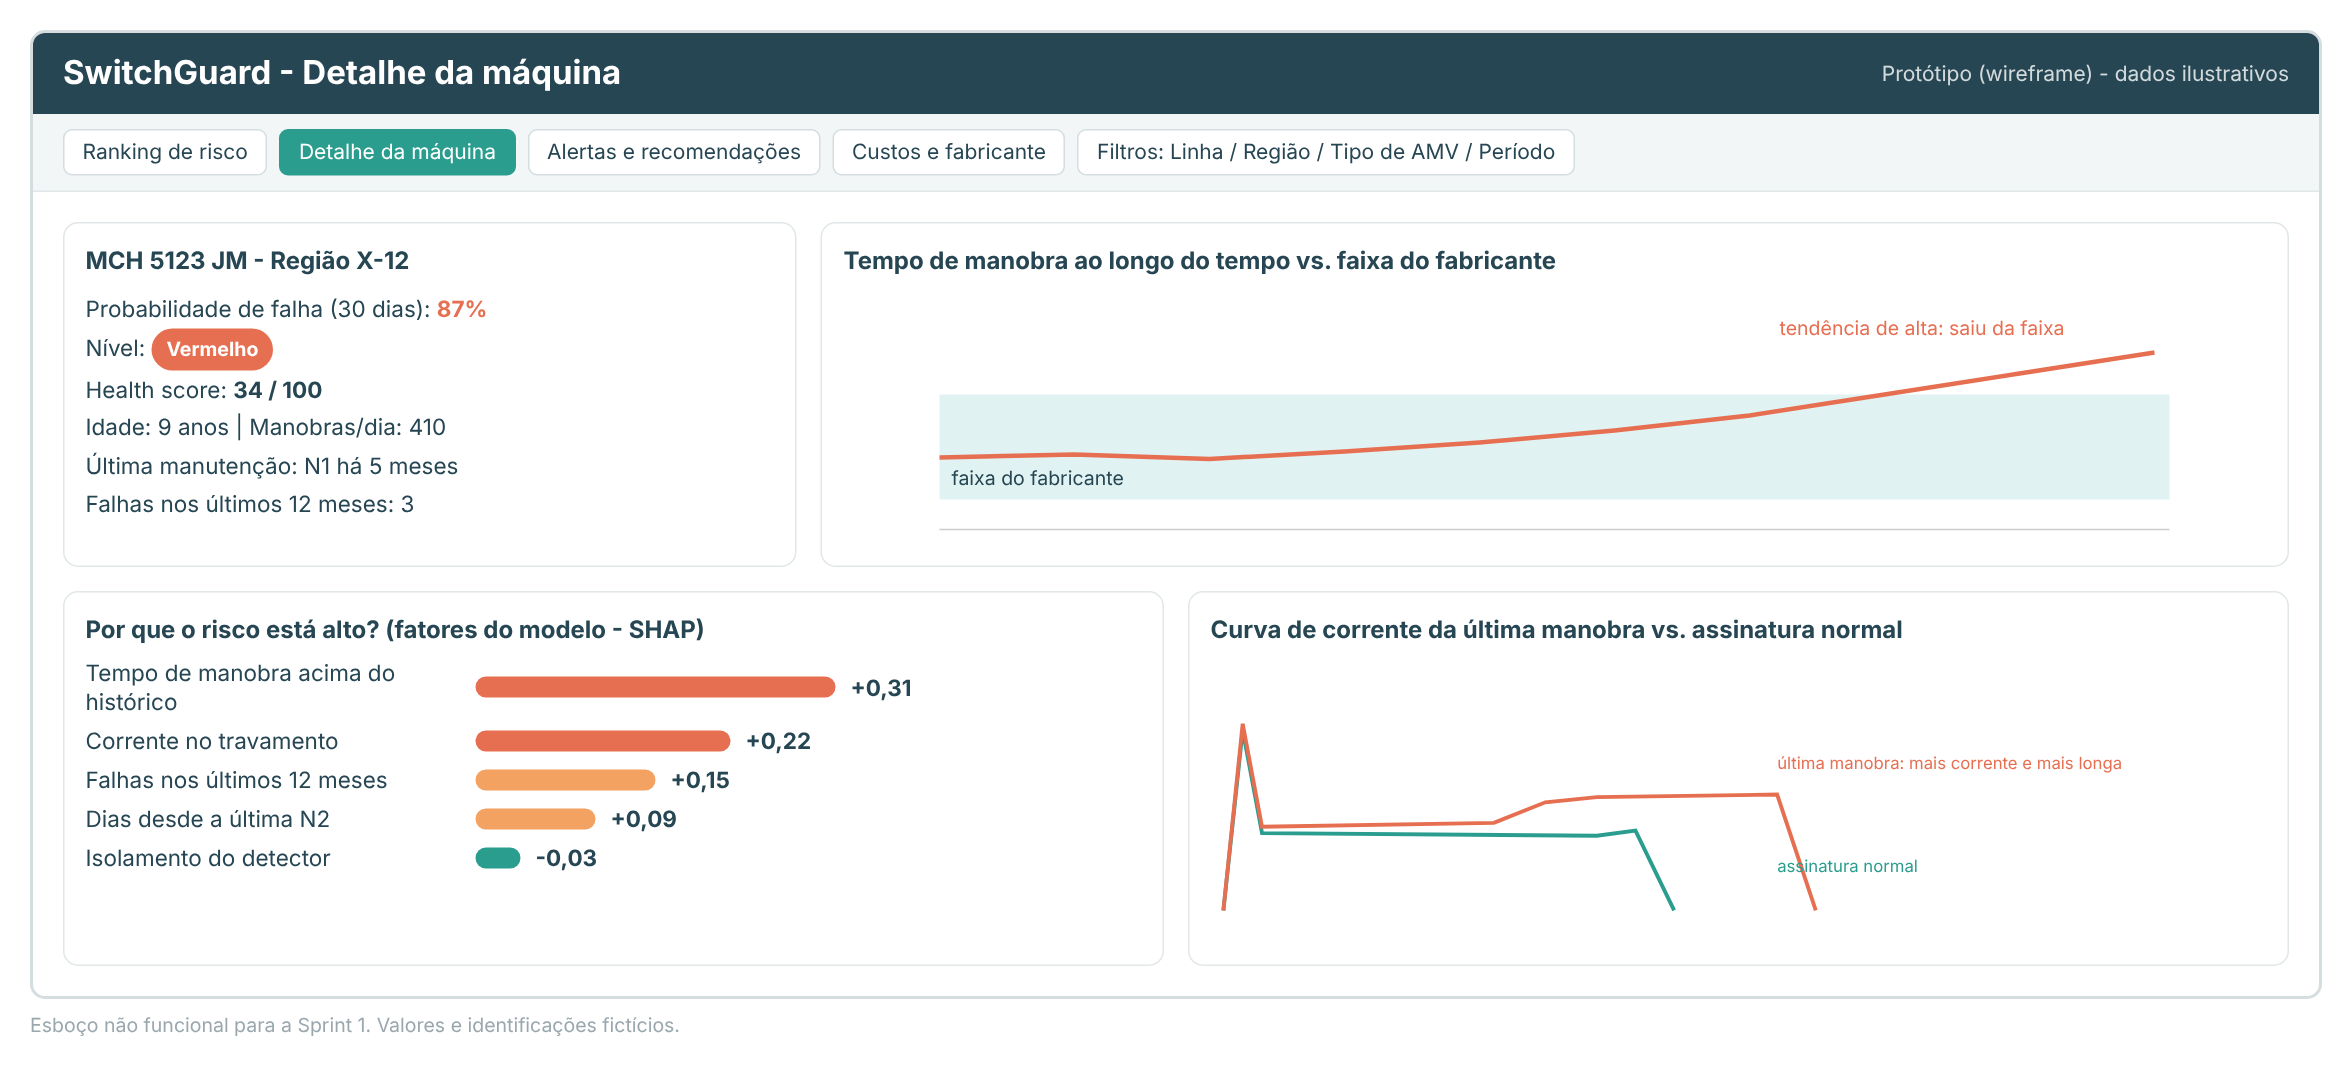

This screenshot's page, from the dashboard's own definition file:
{"tool":"powerbi","page":{"name":"Detalhe da máquina","canvas":[1280,720],"ordinal":1},"visuals":[{"type":"textbox","box":[0,0,1280,64],"z":12000},{"type":"textbox","box":[880,16,390,36],"z":13000},{"type":"slicer","fields":{"Values":["maquinas.maquina"]},"box":[20,76,260,62],"z":14000},{"type":"card","fields":{"Values":["maquinas.Titulo detalhe"]},"box":[292,76,968,62],"z":15000},{"type":"card","fields":{"Values":["maquinas.Probabilidade 30 dias"]},"box":[20,150,196,90],"z":16000},{"type":"card","fields":{"Values":["maquinas.Nivel de risco"]},"box":[228.8,150,196,90],"z":17000},{"type":"card","fields":{"Values":["maquinas.Health score"]},"box":[437.6,150,196,90],"z":18000},{"type":"card","fields":{"Values":["maquinas.Idade"]},"box":[646.4,150,196,90],"z":19000},{"type":"card","fields":{"Values":["maquinas.Manobras por dia"]},"box":[855.2,150,196,90],"z":20000},{"type":"card","fields":{"Values":["maquinas.Falhas 12 meses"]},"box":[1064,150,196,90],"z":21000},{"type":"lineChart","title":"Tempo de manobra ao longo do tempo vs. faixa do fabricante (s)","fields":{"Category":["medicoes.data"],"Y":["maquinas.Tempo de manobra (s)","maquinas.Faixa max fabricante","maquinas.Faixa min fabricante"]},"box":[20,252,1240,206],"z":22000},{"type":"clusteredBarChart","title":"Por que o risco está alto? Fatores do modelo (SHAP)","fields":{"Category":["fatores.fator"],"Y":["maquinas.Contribuicao SHAP"]},"box":[20,470,610,234],"z":23000},{"type":"lineChart","title":"Curva de corrente da última manobra vs. assinatura normal (A)","fields":{"Category":["curva.t_ms"],"Y":["maquinas.Corrente ultima manobra","maquinas.Assinatura normal"]},"box":[642,470,618,234],"z":24000}]}

Visuals, with their boxes on the page's 1280x720 design canvas (x1, y1, x2, y2). These are canvas units, not pixel positions in the 2352x1066 screenshot, which may show the page scaled, cropped or inside an application window:
textbox: region(0, 0, 1280, 64)
textbox: region(880, 16, 1270, 52)
slicer - maquinas.maquina: region(20, 76, 280, 138)
card - maquinas.Titulo detalhe: region(292, 76, 1260, 138)
card - maquinas.Probabilidade 30 dias: region(20, 150, 216, 240)
card - maquinas.Nivel de risco: region(229, 150, 425, 240)
card - maquinas.Health score: region(438, 150, 634, 240)
card - maquinas.Idade: region(646, 150, 842, 240)
card - maquinas.Manobras por dia: region(855, 150, 1051, 240)
card - maquinas.Falhas 12 meses: region(1064, 150, 1260, 240)
"Tempo de manobra ao longo do tempo vs. faixa do fabricante (s)" lineChart: region(20, 252, 1260, 458)
"Por que o risco está alto? Fatores do modelo (SHAP)" clusteredBarChart: region(20, 470, 630, 704)
"Curva de corrente da última manobra vs. assinatura normal (A)" lineChart: region(642, 470, 1260, 704)
